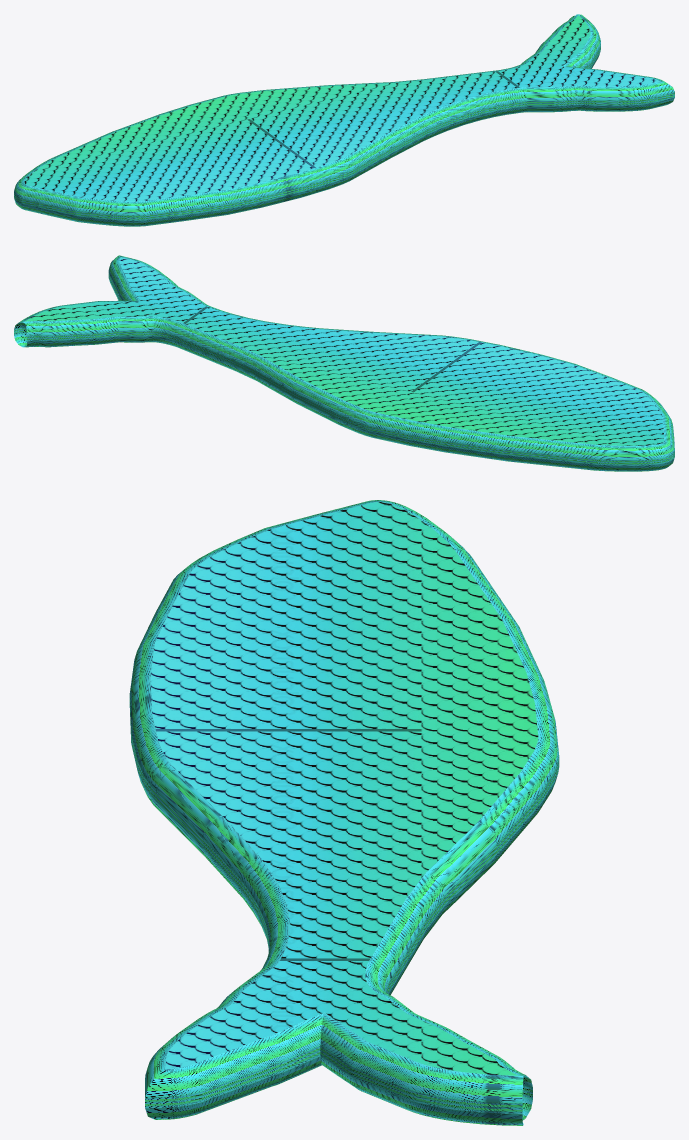
The model's file is fish.fbx.
3 views of the same model, one above another, from view 1: azimuth 30°, elevation 25°; view 2: azimuth 150°, elevation 25°; view 3: azimuth 270°, elevation 25° (orthographic). The views are drawn at different scales.
Parts seen in each view (by area): view 1: Cap_2, Rounding_2, Rounding_1, Extrude; view 2: Cap_2, Rounding_2, Rounding_1, Extrude; view 3: Cap_2, Rounding_2, Extrude, Rounding_1.
Boxes of the visible parts, <box> form: Cap_2: <box>24,15,659,201</box>; Rounding_2: <box>14,14,674,215</box>; Rounding_1: <box>14,53,674,226</box>; Extrude: <box>14,45,674,220</box>; Cap_2: <box>23,257,664,445</box>; Rounding_2: <box>14,255,674,459</box>; Rounding_1: <box>14,280,674,471</box>; Extrude: <box>14,273,674,465</box>; Cap_2: <box>150,502,538,1075</box>; Rounding_2: <box>129,500,559,1103</box>; Extrude: <box>129,698,559,1113</box>; Rounding_1: <box>138,774,557,1125</box>.
Size of the model in its own units: 603 by 23 by 185.
Materials: 5 (5 with a texture image).
